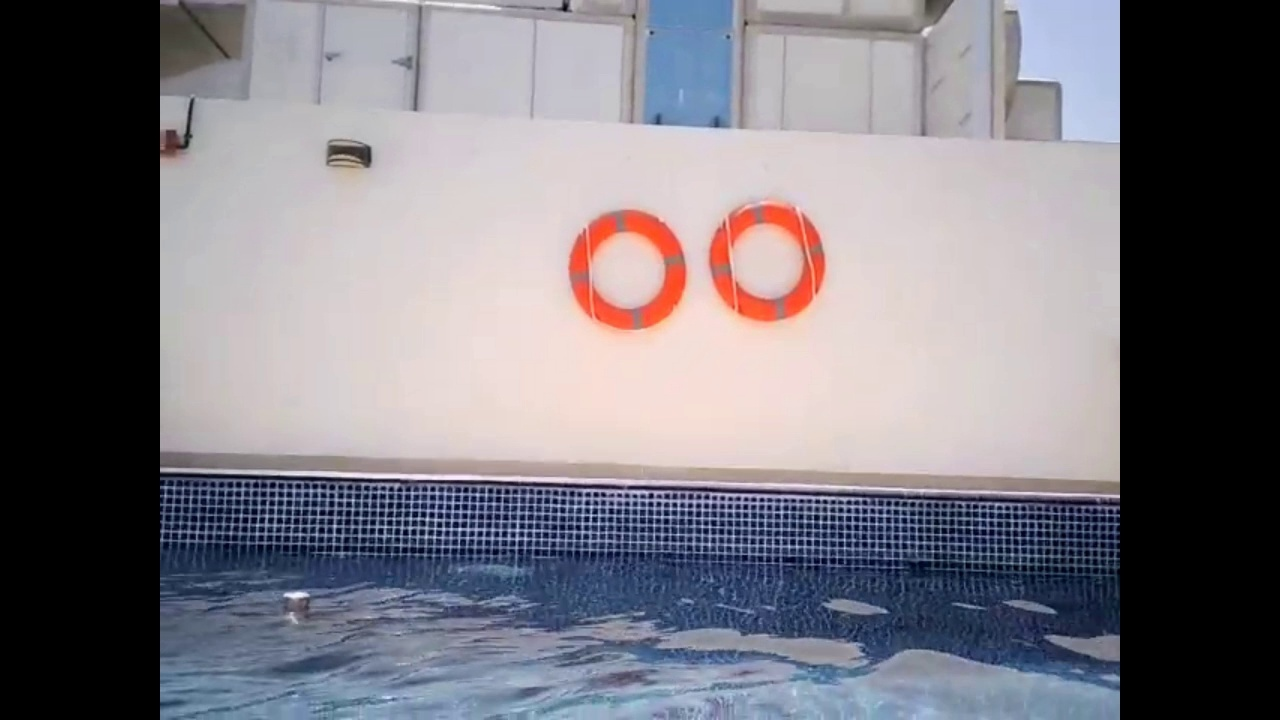debris: (275, 586, 318, 626)
